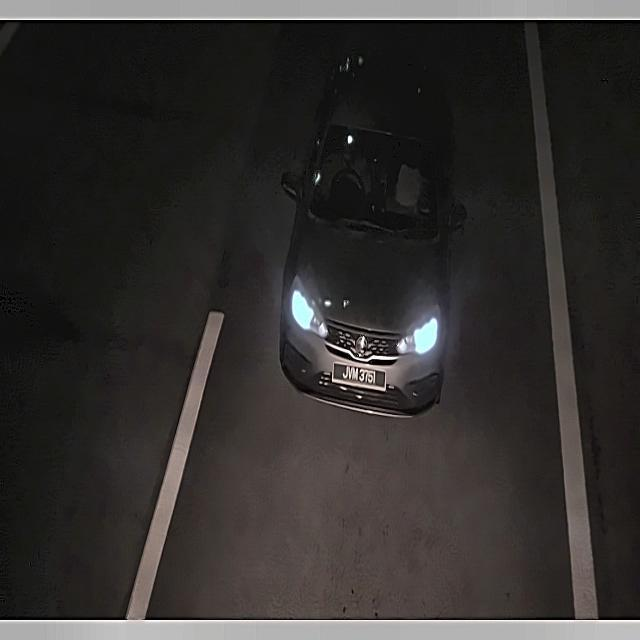car: (330, 354, 392, 397)
